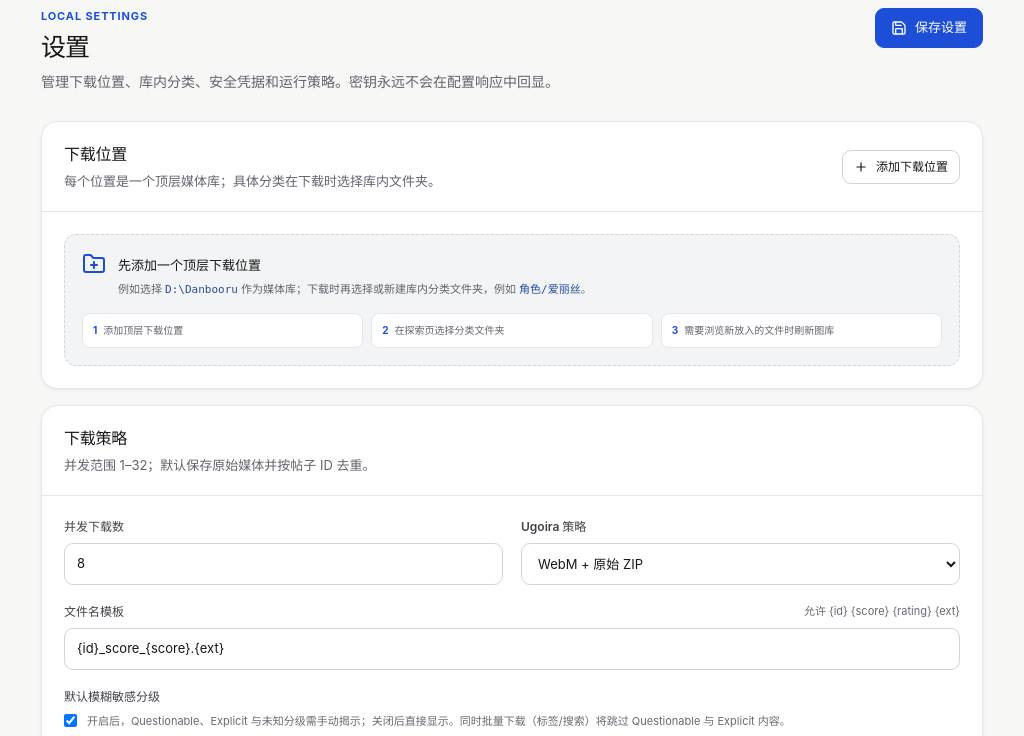
Test case: SettingsView media root mapping › saves and displays a trimmed Windows/Linux mapping without indexing it
Expected: the text "先添加一个顶层下载位置" is shown, [118,258,261,274]
Step 1. Click the button "添加下载位置" → (901, 167), box [842,150,960,184]
(page scrolled)
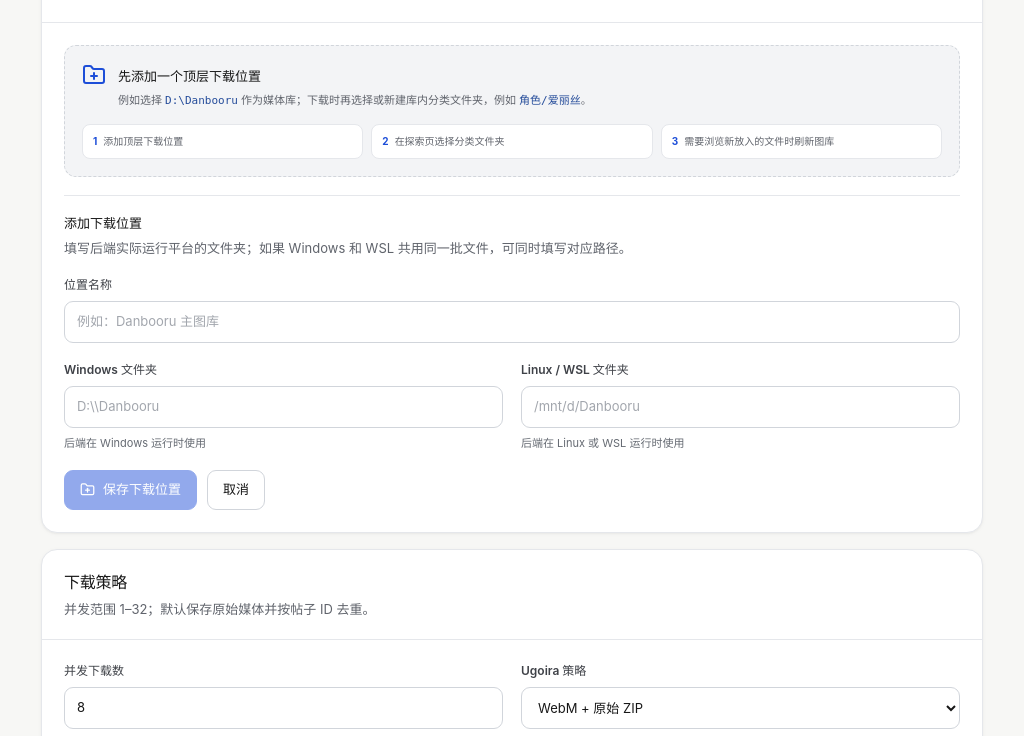
Step 2. Type "  训练集  " into the field labelled "位置名称" → (512, 322), box [64,301,960,343]
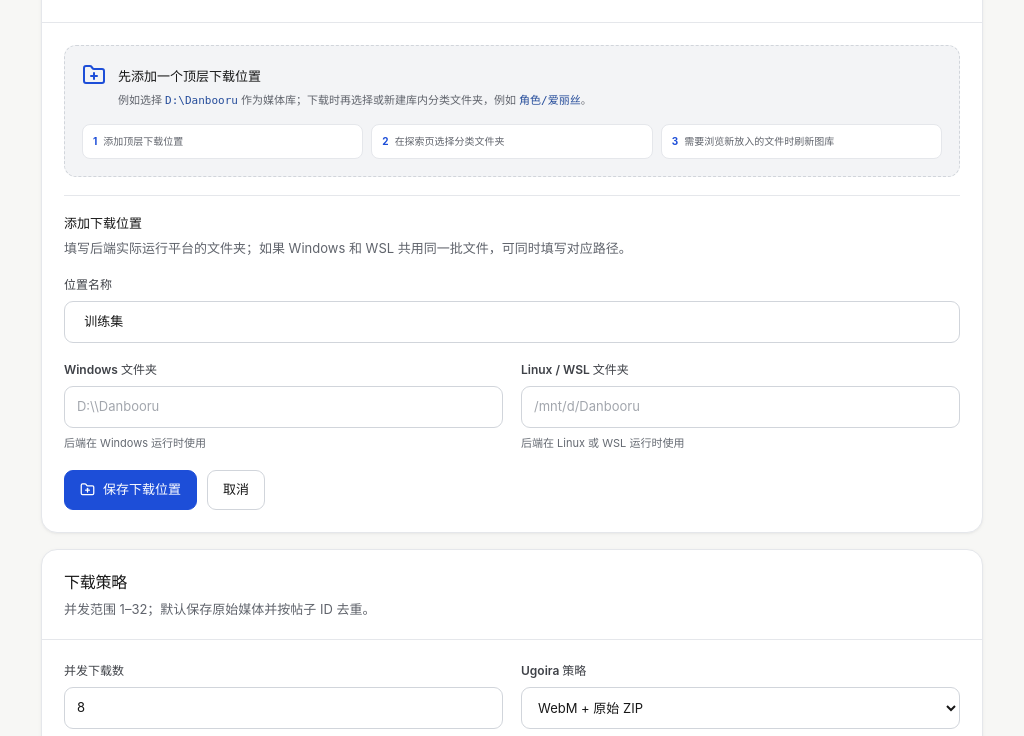
Step 3. Type "  C:\\Media\\Danbooru  " into the field labelled "Windows 文件夹" → (284, 407), box [64,386,503,428]
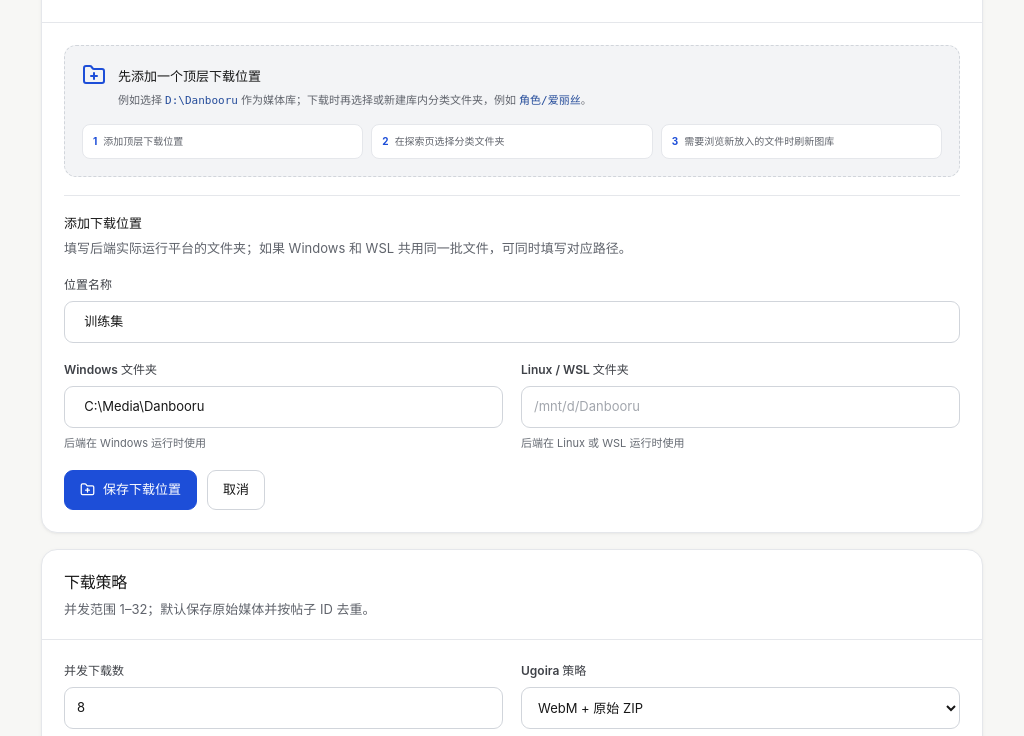
Step 4. Type "  /mnt/c/Media/Danbooru  " into the field labelled "Linux / WSL 文件夹" → (740, 407), box [521,386,960,428]
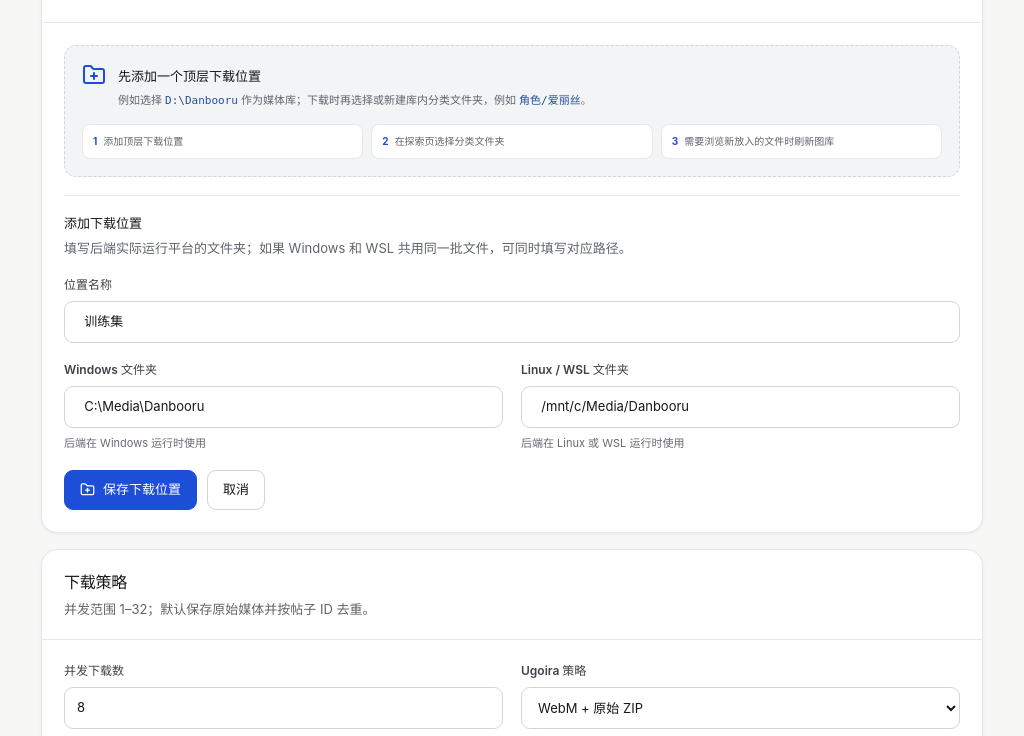
Step 5. Click the button "保存下载位置" → (130, 490), box [64,470,197,510]
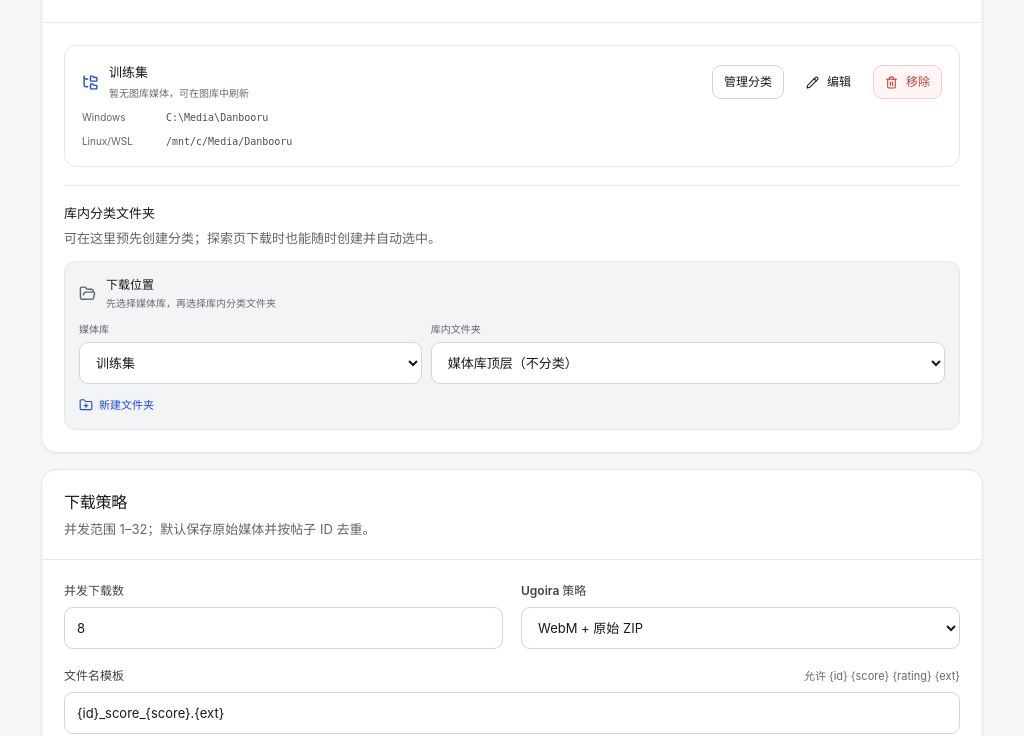
Expected: the text "C:\\Media\\Danbooru" is shown, [166,112,268,123]
Expected: the text "/mnt/c/Media/Danbooru" is shown, [166,136,292,147]
Expected: the text "暂无图库媒体，可在图库中刷新" is shown, [109,86,249,101]
